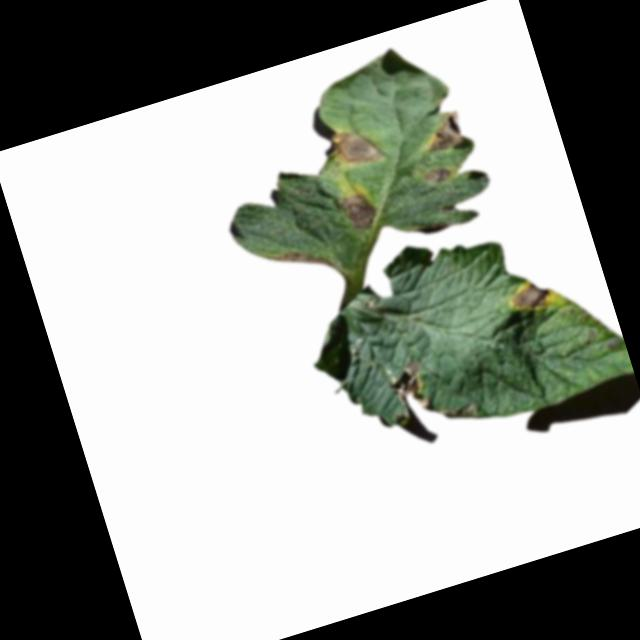Early_blight: (322, 120, 384, 175), (266, 240, 334, 287), (388, 358, 436, 421), (418, 109, 474, 160), (505, 275, 553, 320), (337, 189, 382, 236), (420, 162, 455, 188)
